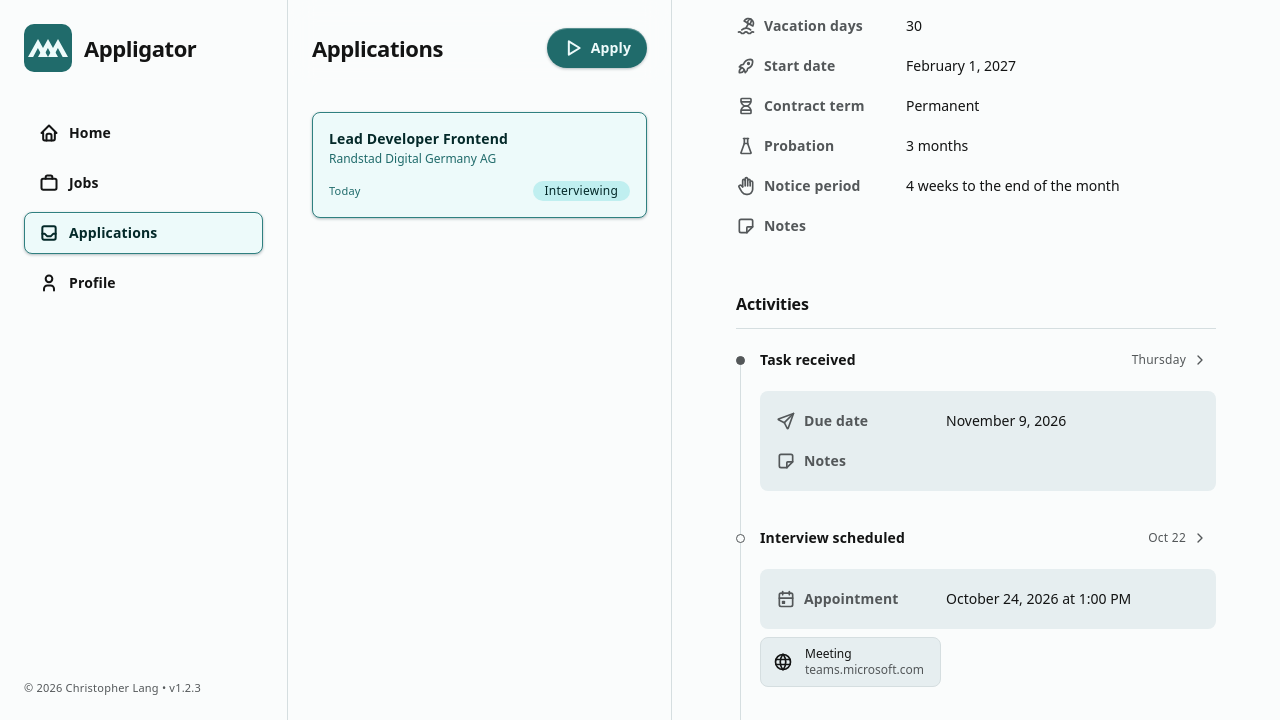
Scenario: deletes an activity after confirmation
(page scrolled)
Click the button with aria-label "Edit Task received" at (1168, 360), box [1120,346,1216,374]
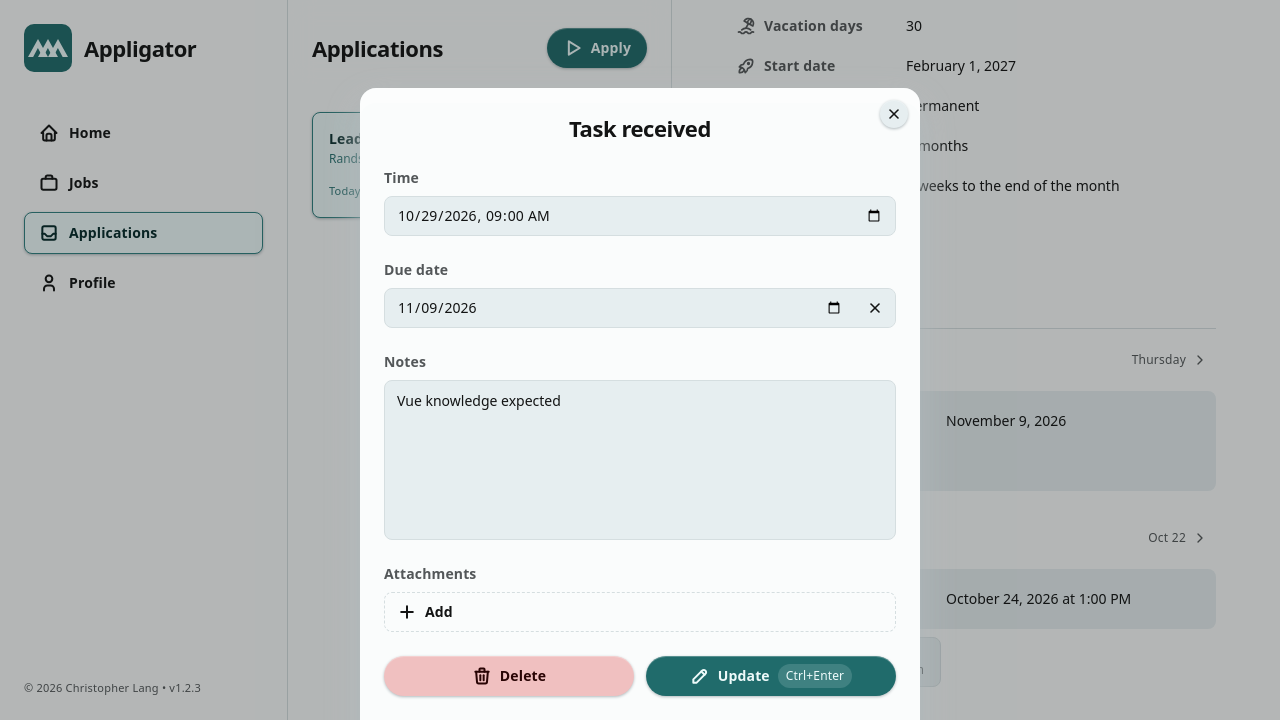
Click the button "Delete" at (509, 676), box [384,656,634,696]
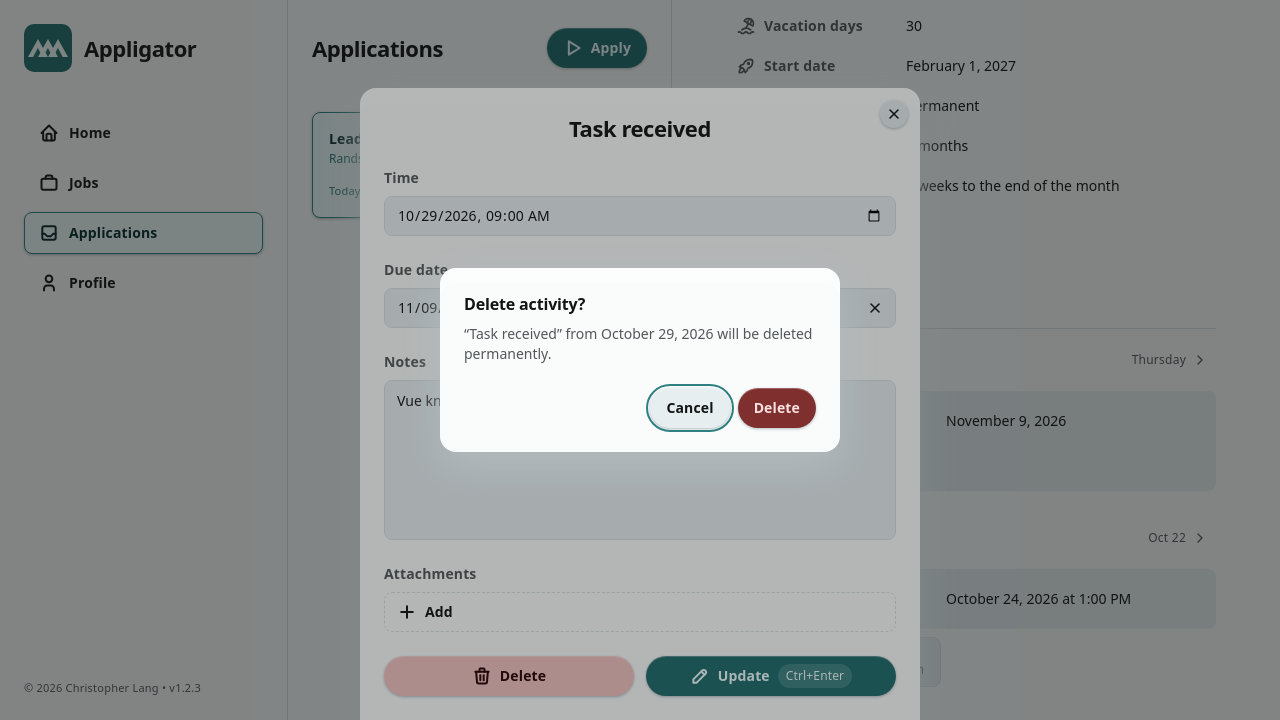
Check: the dialog "Delete activity?" shows "“Task received” from October 29, 2026 will be deleted", box [464,324,812,363]
Click the button "Delete" at (777, 408), box [738,388,816,428]
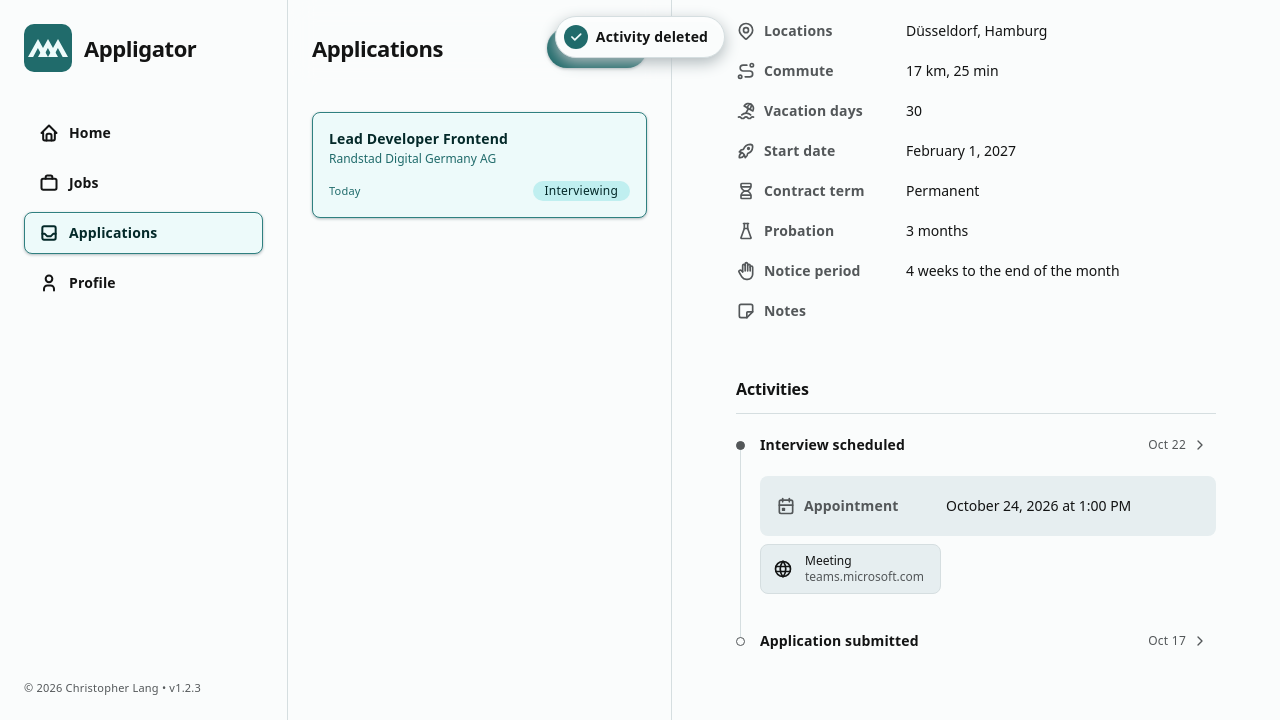
Check: the heading "Activity deleted" is shown, box [596,27,708,47]
